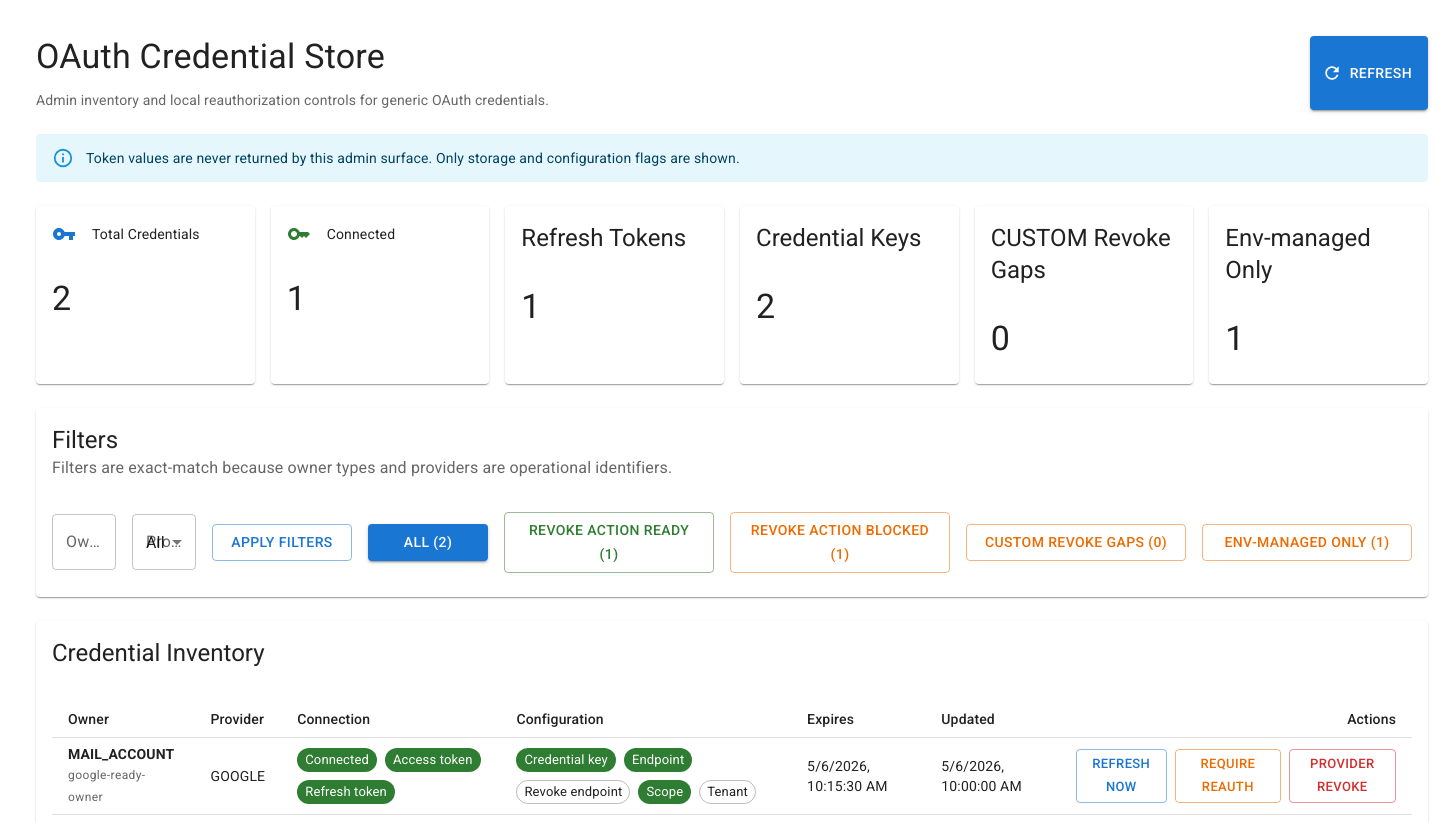
Test: filters to env-managed credential-key-only rows
Check: the text "google-ready-owner" is shown, box top-left (68, 768), bottom-right (146, 804)
What coordinates should you click on to do the following:
click the button "Env-managed only (1)"
I would click on:
 (1307, 542)
Its box is top-left (1202, 524), bottom-right (1412, 561).
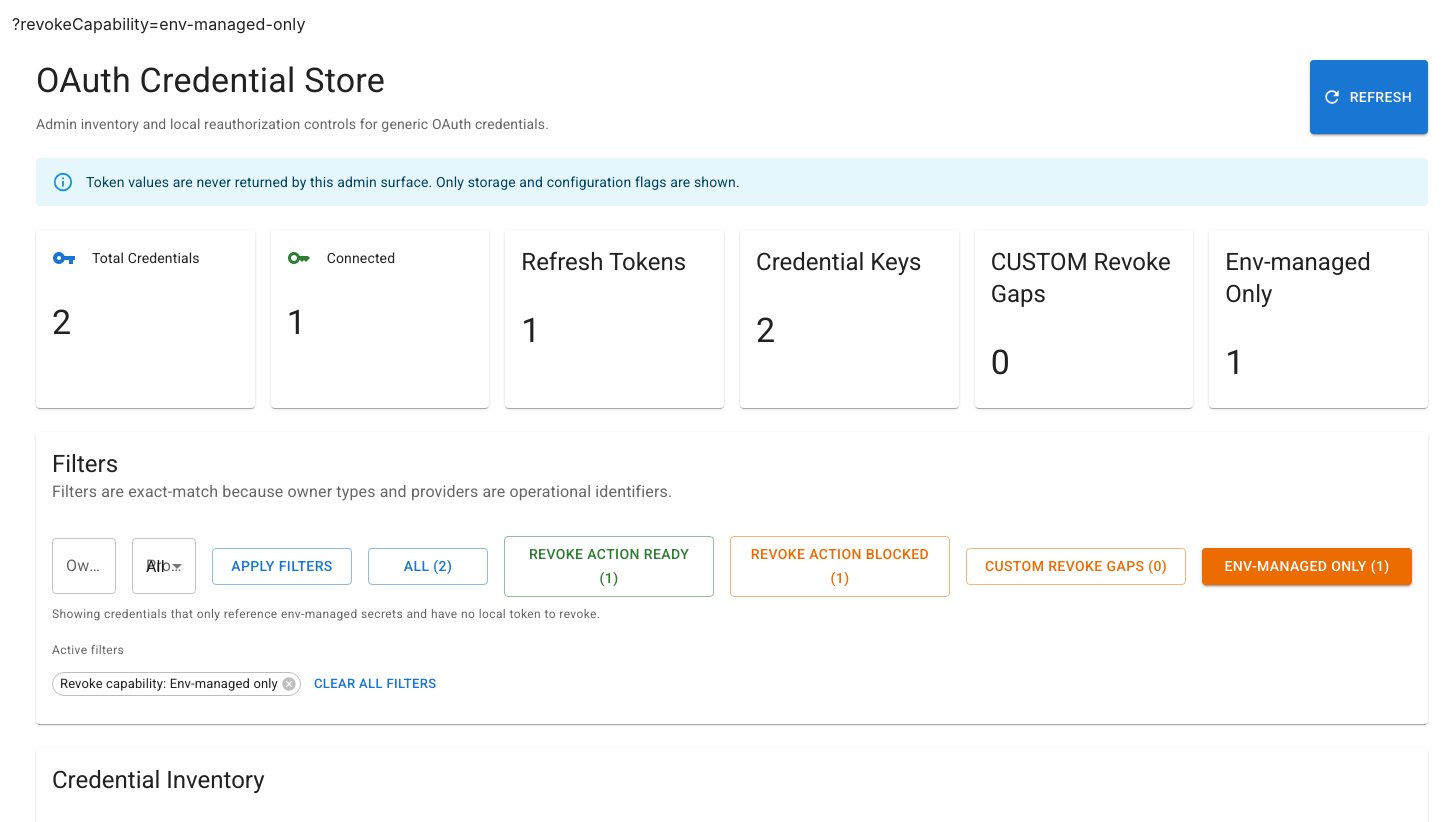
Check: the text "Showing credentials that only reference env-managed secrets and have no local token to revoke." is shown, box top-left (52, 607), bottom-right (600, 621)
Check: the text "google-ready-owner" is gone
Check: the text "Revoke capability: Env-managed only" is shown, box top-left (53, 674), bottom-right (285, 694)
